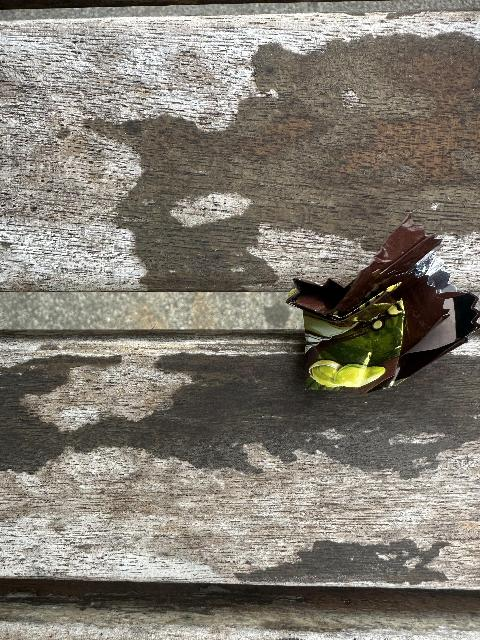Plastik: (284, 224, 480, 403)
